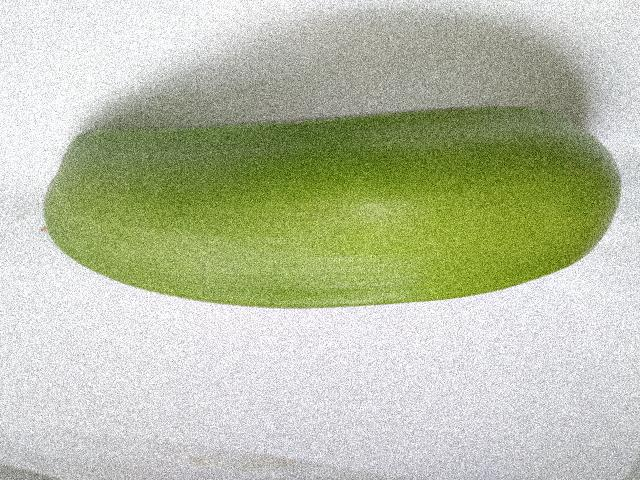freshunripe: (21, 92, 637, 318)
